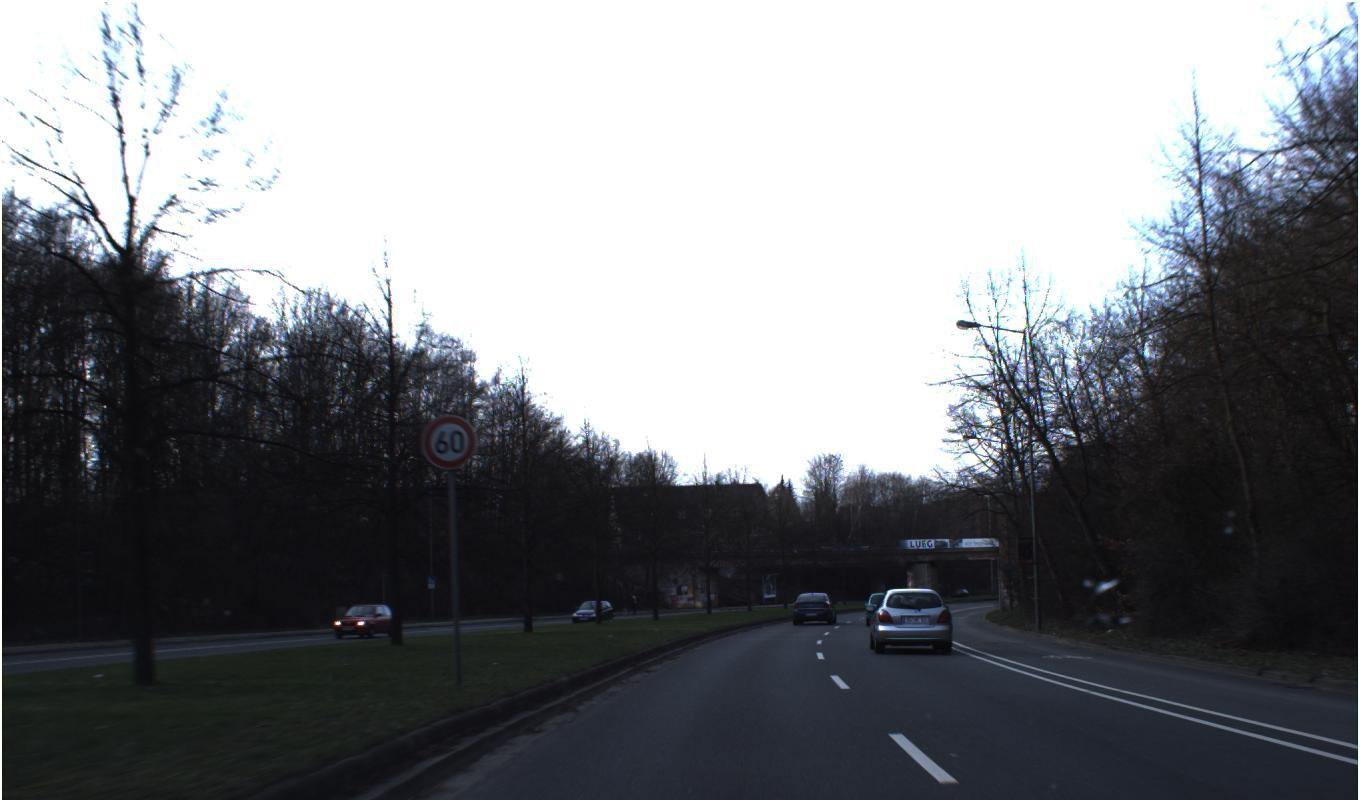speed limit 60 prohibitory: (421, 414, 476, 470)
